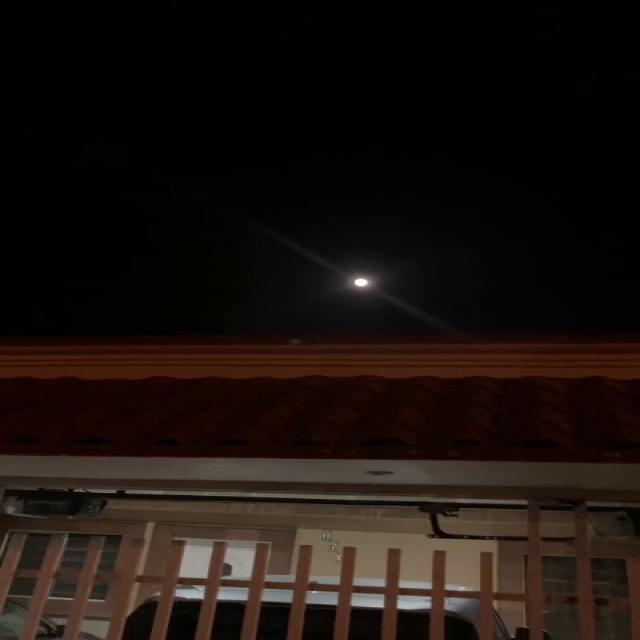moon: (344, 270, 377, 294)
